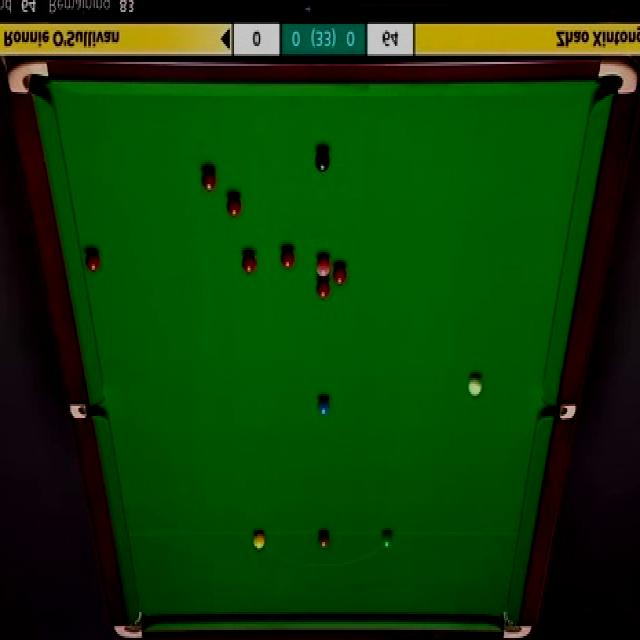black-ball: (316, 150, 332, 173)
blue-ball: (316, 396, 331, 418)
brown-ball: (317, 530, 331, 549)
green-ball: (381, 529, 394, 550)
pink-ball: (315, 253, 332, 278)
red-ball: (200, 166, 220, 191), (225, 194, 242, 219), (279, 246, 296, 270), (332, 262, 348, 286), (85, 250, 102, 272), (242, 250, 256, 274), (316, 279, 331, 300)
white-ball: (467, 377, 485, 401)
yellow-ball: (252, 531, 266, 552)
